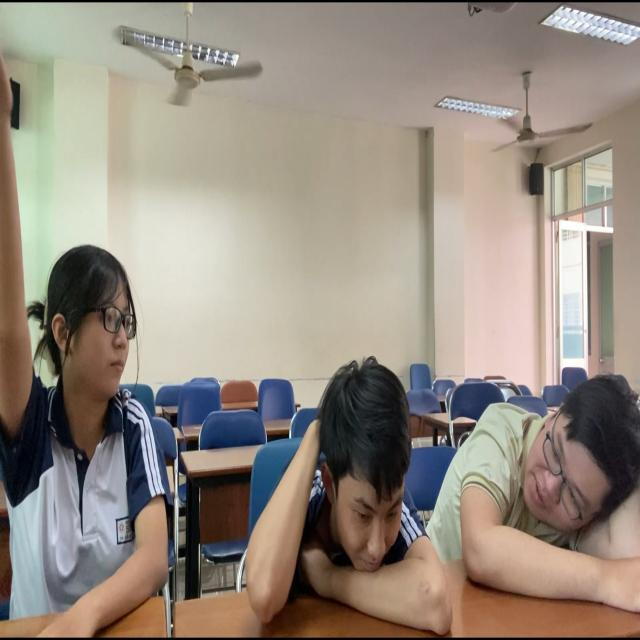raise_hand: (1, 1, 197, 636)
sleep: (462, 317, 640, 640)
